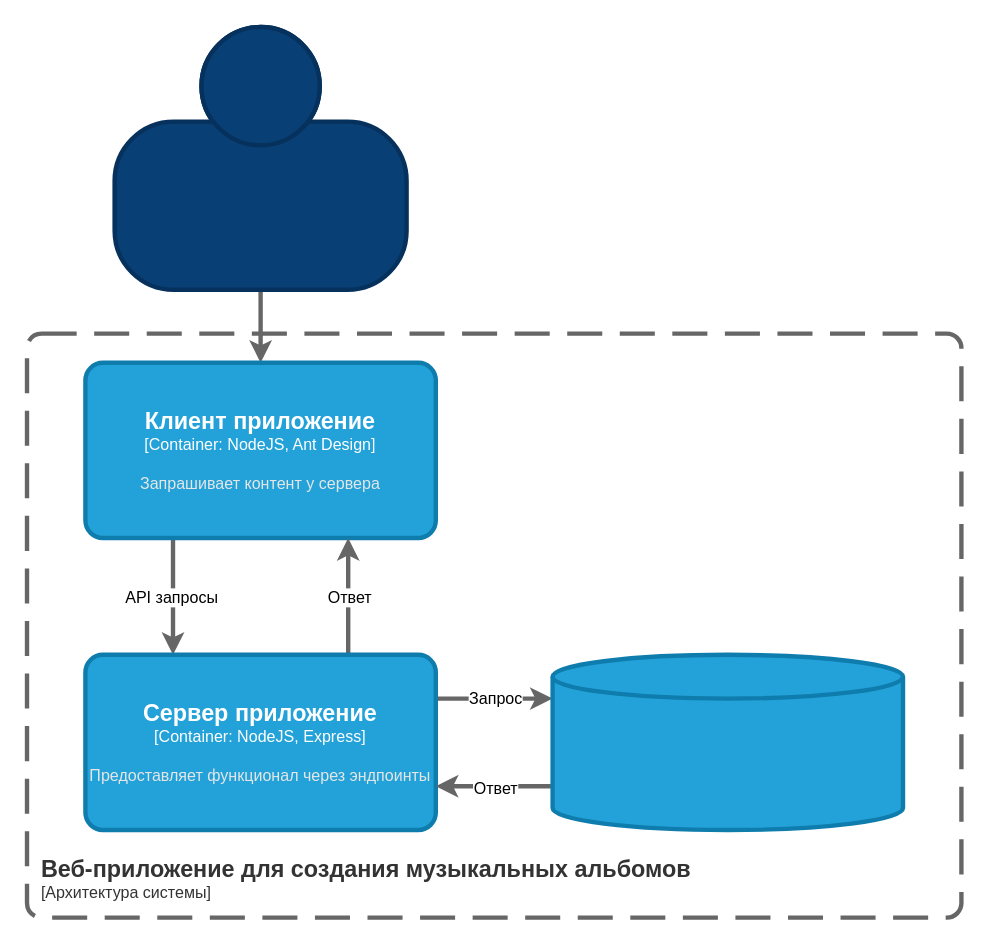
Some shapes in this 988 by 945 pixel diagram are drawn without their labels. The shapes that lost their labels are listed below. From the top down, each one's centre as x and y in pixels, then its label:
At point (260, 157): "Пользователь [Person] Просматривает, создаёт, прослушивает альбомы/песни".
At point (727, 741): "Сервер базы данных [Container: PostgreSQL] Хранит аккаунты, песни, альбомы".
